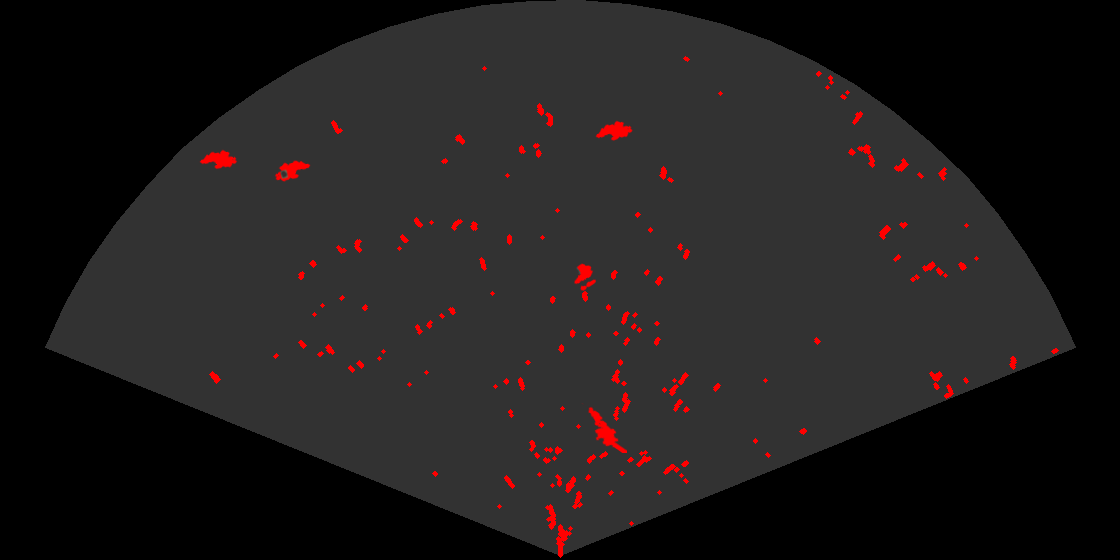AUV: (198, 148, 239, 171), (273, 159, 312, 183), (594, 119, 634, 142)
ball: (573, 262, 598, 292)
frogman: (580, 403, 627, 453)
